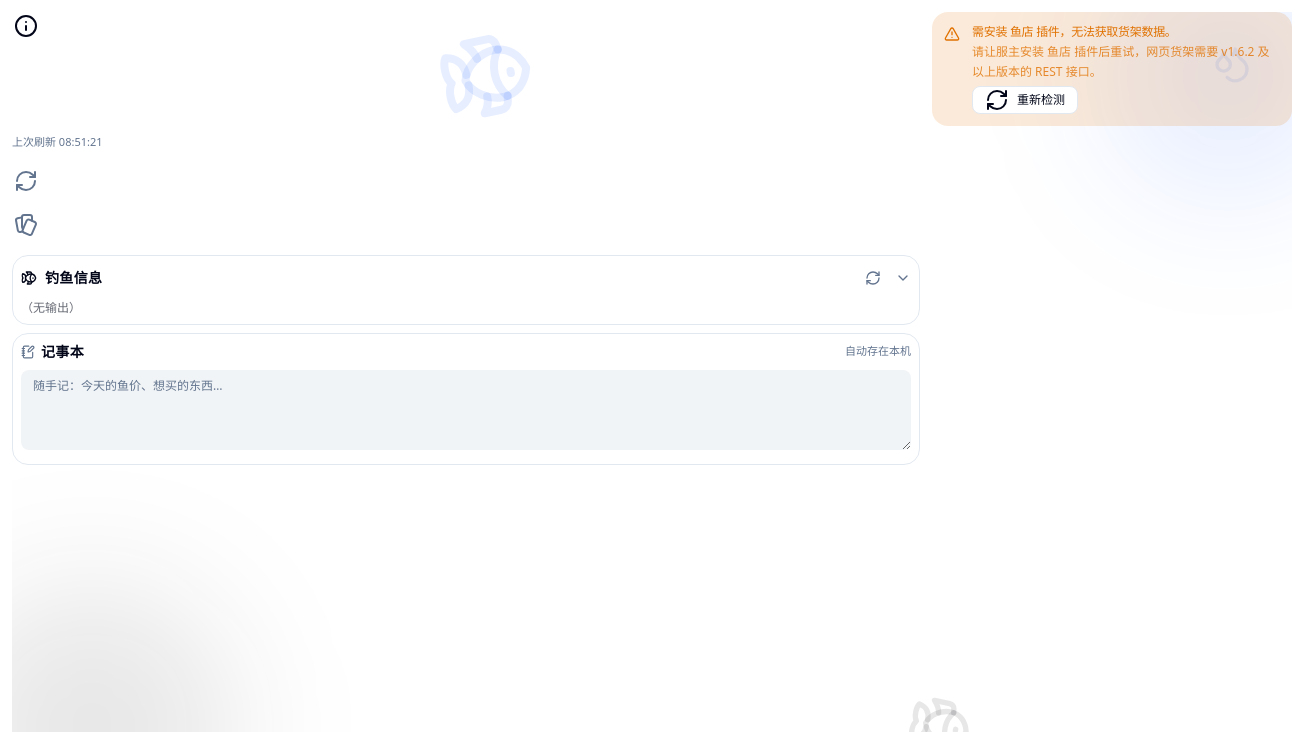
Test: FishShopPage › 提示区有「重新检测」：装上插件后不用切页面（REST 延迟注册的兜底）
Expected: the text "需安装 鱼店 插件，无法获取货架数据。" is shown, left=972, top=23, right=1176, bottom=40
Click the button "重新检测" at [1025, 100], box left=972, top=86, right=1078, bottom=114
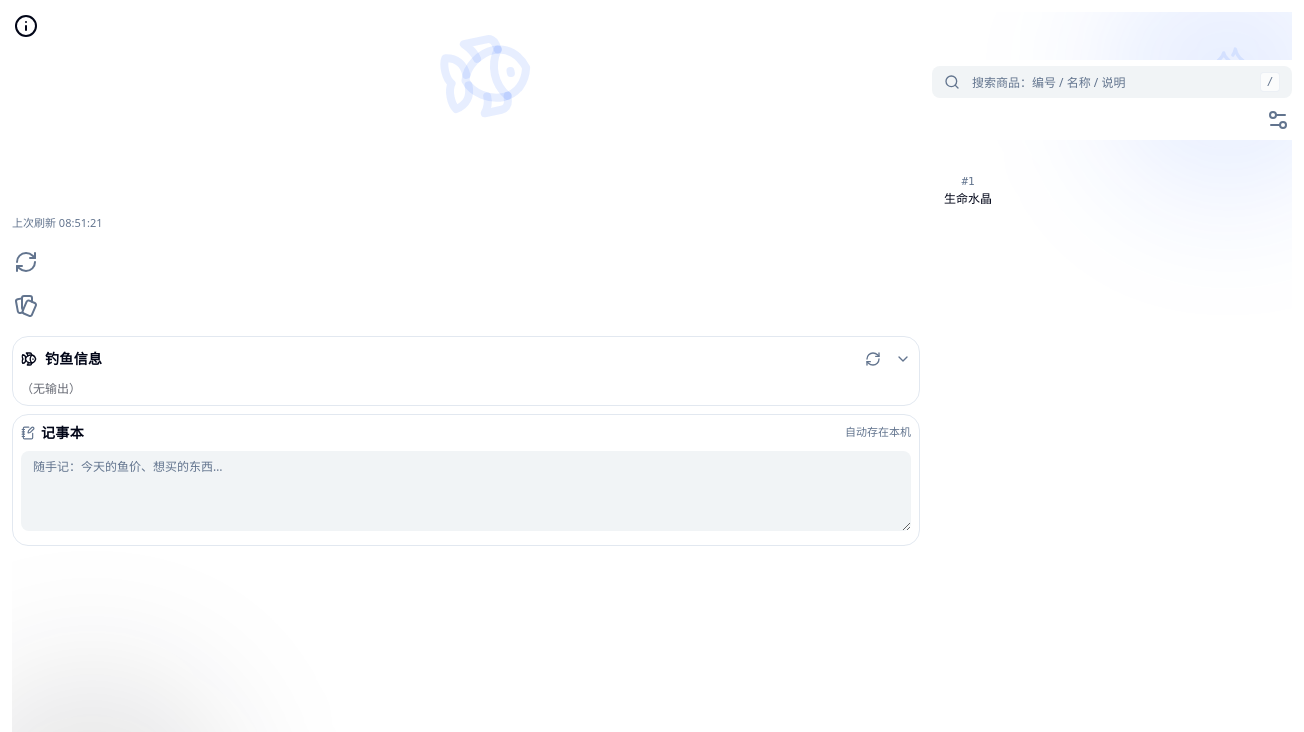
Expected: the button "#1 生命水晶" is shown, left=932, top=100, right=1004, bottom=207
